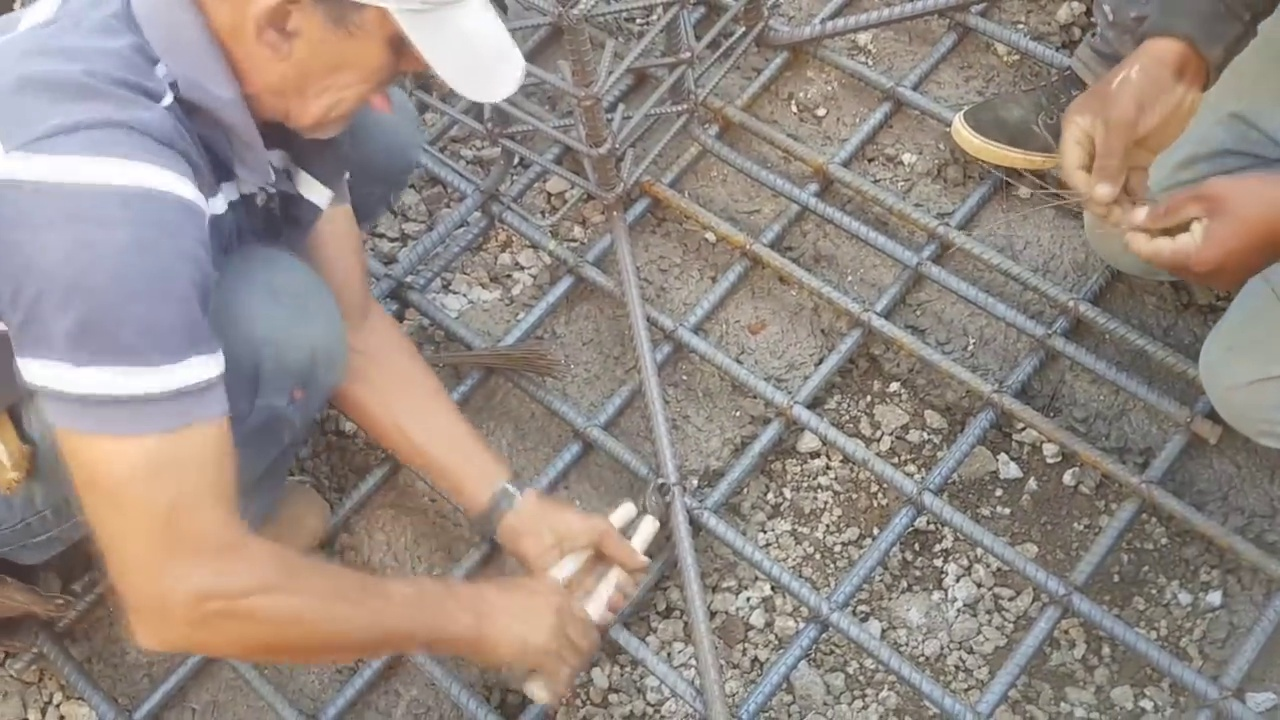helmet-off: (188, 3, 537, 148)
person: (0, 0, 653, 709), (951, 5, 1280, 460)
